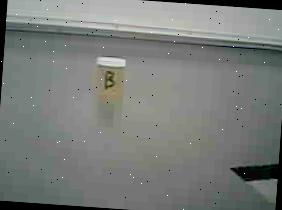Bottle B: (86, 52, 134, 109)
